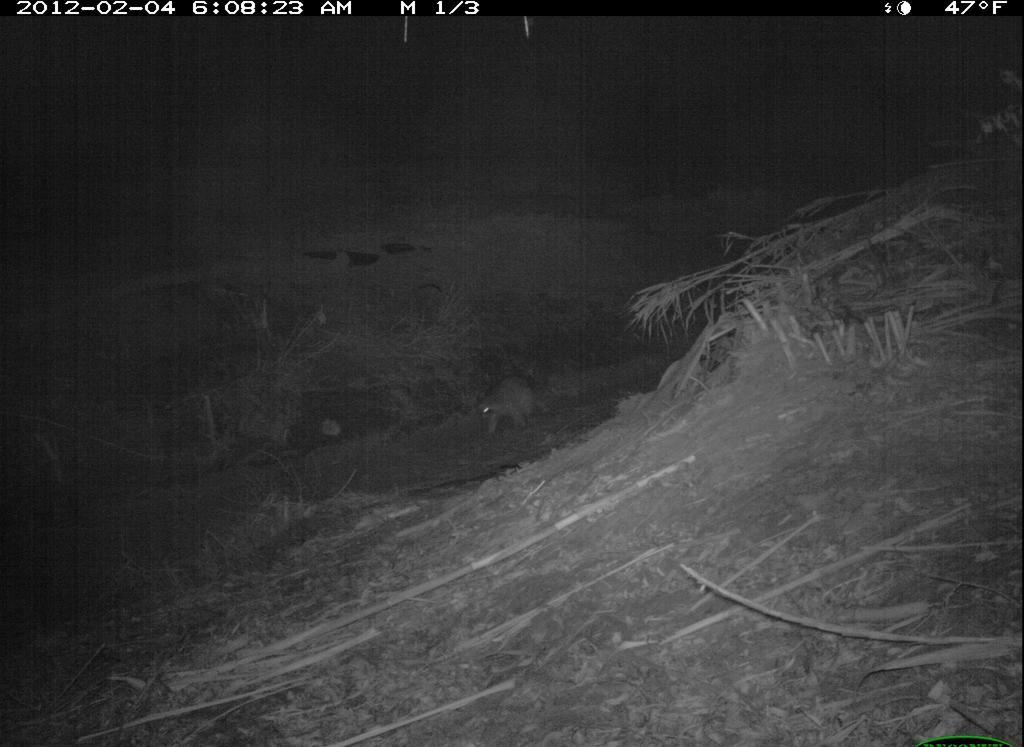raccoon: (455, 350, 573, 443)
